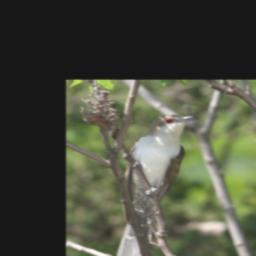Cuckoo: (111, 111, 202, 256)
